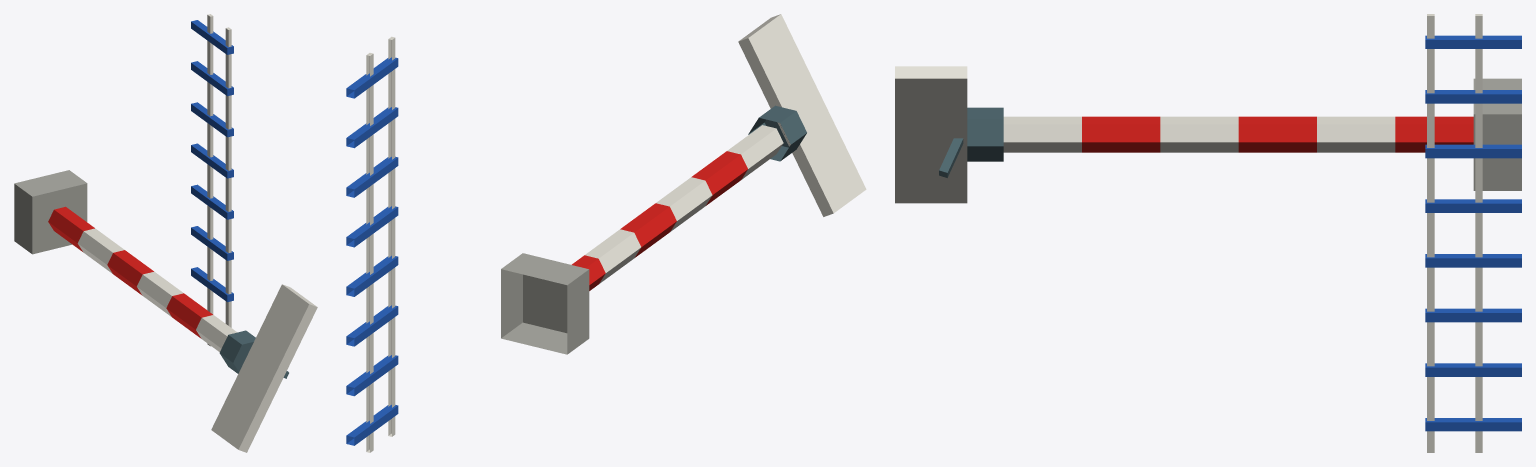
The model's file is frame_8.glb.
3 views of the same model, side by side, from view 1: azimuth 30°, elevation 25°; view 2: azimuth 150°, elevation 25°; view 3: azimuth 270°, elevation 25° (orthographic). The views are drawn at different scales.
Parts seen in each view (by area): view 1: t5_4_g31.008; view 2: t5_4_g31.008; view 3: t5_4_g31.008.
Part boxes in pixels (left/top/right/bottom): t5_4_g31.008: left=14, top=14, right=317, bottom=452; t5_4_g31.008: left=346, top=14, right=866, bottom=452; t5_4_g31.008: left=895, top=14, right=1521, bottom=452.
Size of the model in its own units: 9.94 by 16 by 20.8.
